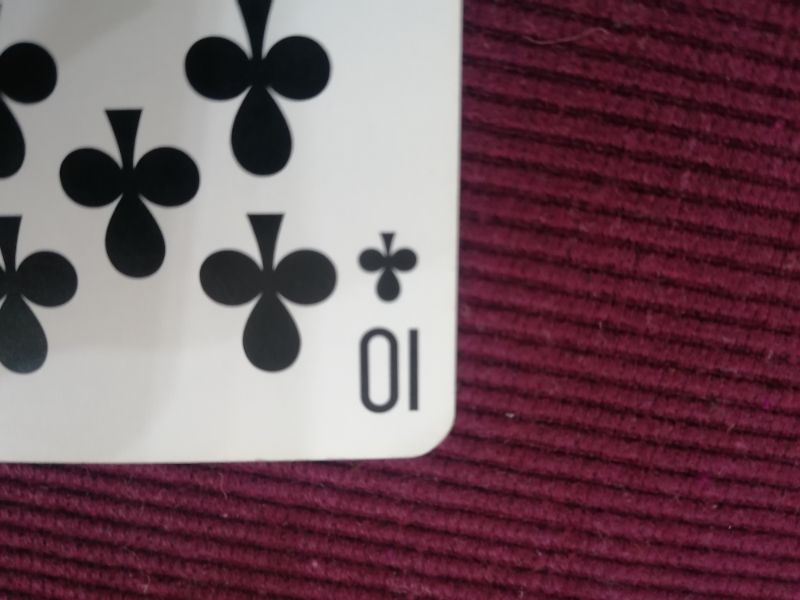Tc: (349, 224, 430, 418)
